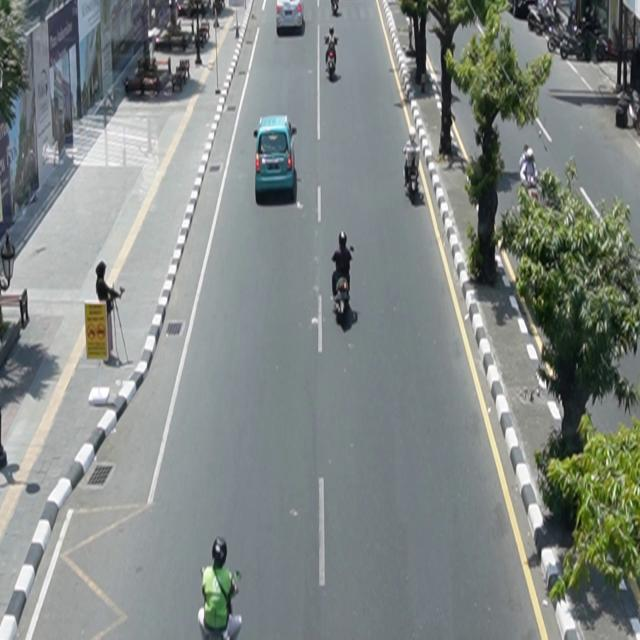car: (254, 115, 298, 205), (277, 1, 304, 34)
